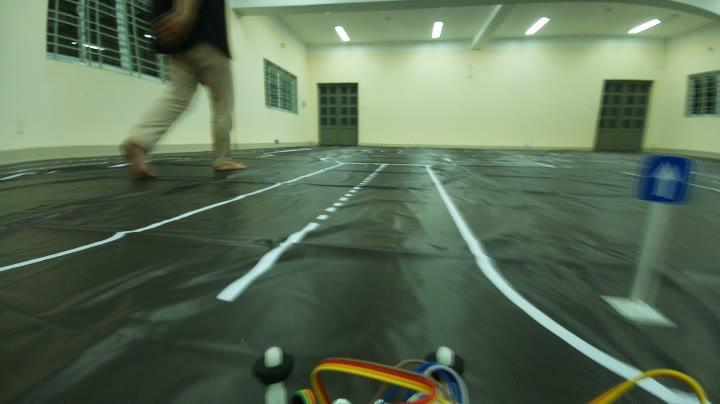onewayroad: (633, 149, 693, 207)
